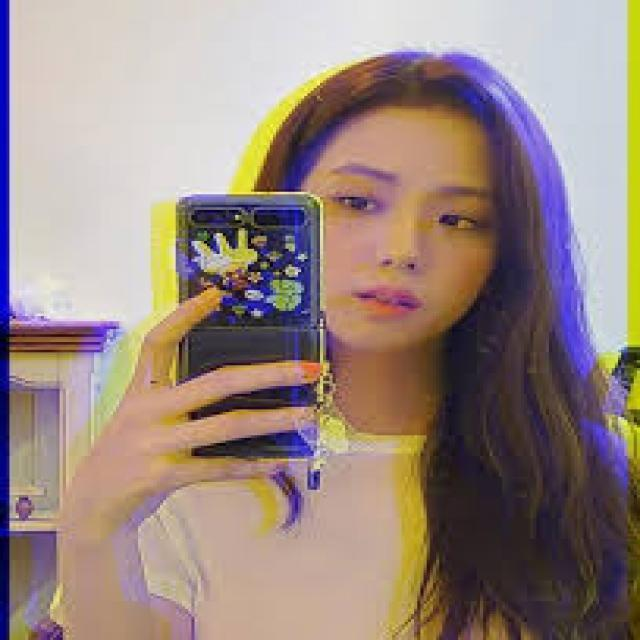Phone: (175, 189, 327, 463)
